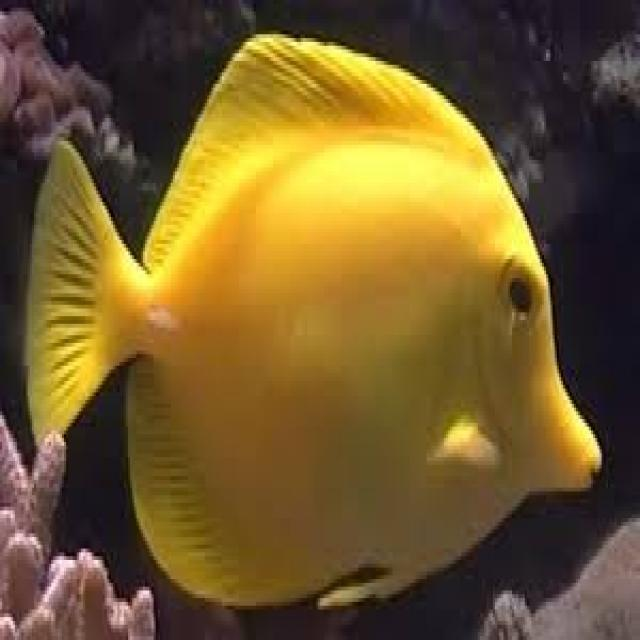TangFish: (22, 29, 608, 614)
